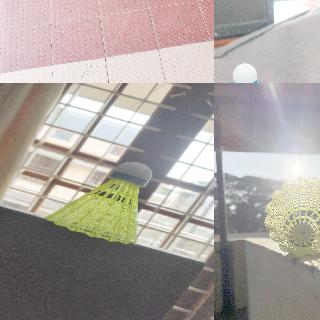shuttlecock: (44, 162, 151, 244), (264, 176, 319, 256), (221, 63, 273, 82)
